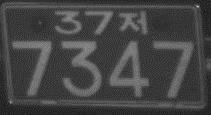3: (60, 39, 102, 98), (54, 8, 82, 35)
4: (109, 40, 150, 98)
7: (152, 39, 195, 100), (11, 39, 52, 98), (84, 9, 114, 36)
저: (118, 10, 148, 35)
